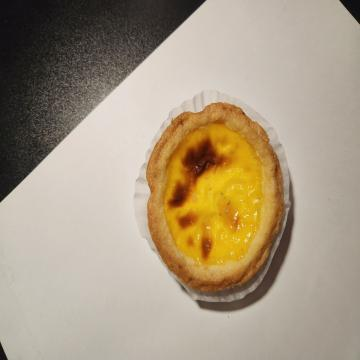EggTart: (146, 102, 285, 292)
